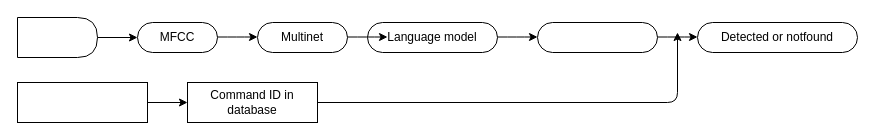
The diagram is 875 pixels wide and 140 high, and some of its shapes have lost their labels. The centre of each missing label's shape, as x and y in pixels:
"Command ID" goes at (x=597, y=37).
"Custom command words" goes at (x=82, y=102).
"voice" goes at (x=57, y=37).
